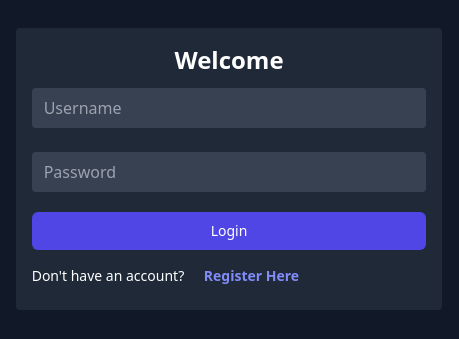
Test: Login › displays error message for empty credentials
This screenshot has width=459, height=339.
Click the button "Login" at (229, 231), box [32,212,426,250]
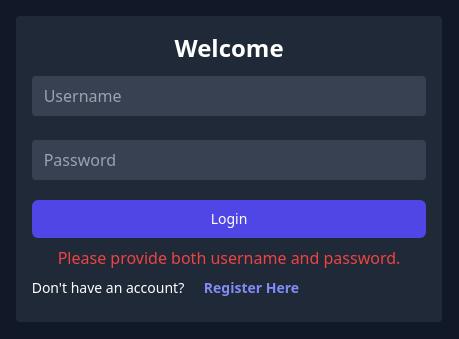
Expected: the text "Please provide both username and password." is shown, [32,246,426,270]
